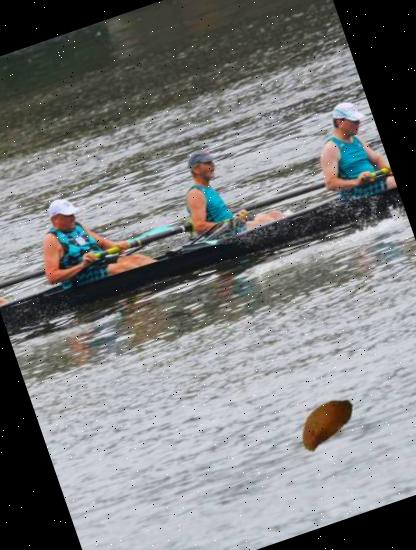Potato: (283, 378, 368, 464)
